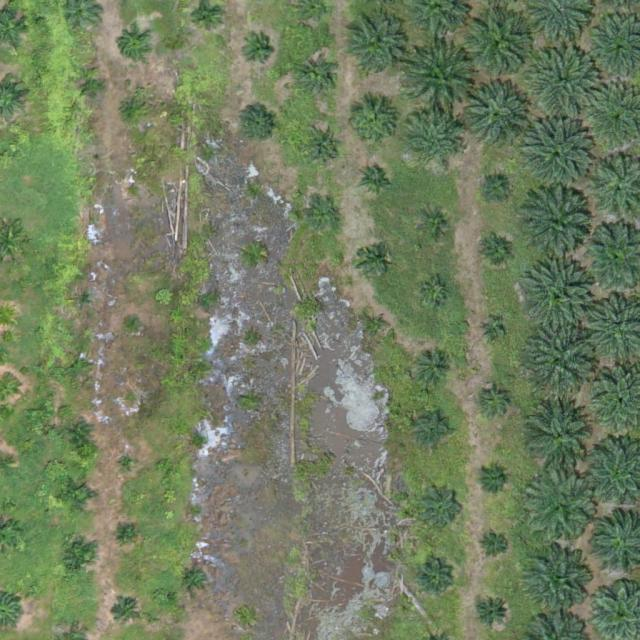Healthy: (531, 46, 602, 117), (525, 325, 596, 396), (525, 397, 596, 468), (464, 11, 534, 82), (406, 46, 476, 117), (460, 81, 530, 152), (524, 122, 594, 193), (524, 192, 594, 263), (522, 550, 592, 621), (527, 475, 597, 546), (525, 262, 595, 332), (344, 19, 406, 82), (407, 113, 462, 168)
Small: (345, 96, 399, 151), (419, 483, 466, 530), (304, 128, 344, 168), (472, 593, 512, 633), (238, 103, 278, 142), (59, 538, 98, 578), (416, 562, 455, 602), (416, 410, 455, 450), (301, 60, 340, 99), (416, 350, 455, 389), (359, 161, 398, 200), (59, 477, 98, 516), (243, 35, 274, 67), (480, 386, 511, 418), (76, 72, 107, 104), (115, 94, 146, 126), (478, 463, 509, 495), (110, 597, 141, 629), (309, 203, 340, 234), (356, 243, 387, 274), (118, 30, 149, 61), (420, 278, 451, 309), (421, 210, 452, 241), (480, 531, 511, 562), (481, 173, 512, 204), (482, 238, 513, 269), (181, 565, 212, 596), (367, 314, 391, 338), (481, 320, 505, 344), (117, 453, 141, 477), (70, 423, 94, 447), (67, 355, 91, 379), (73, 289, 96, 313), (126, 314, 142, 329), (124, 183, 140, 198), (119, 526, 134, 542)
